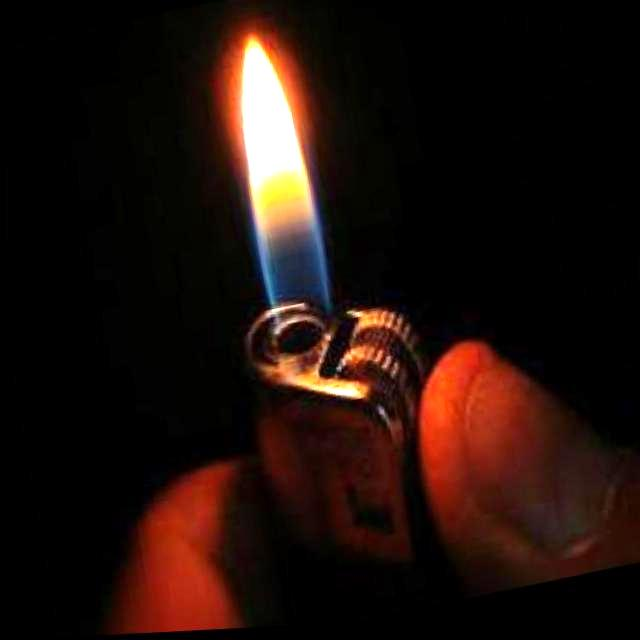fire: (226, 29, 334, 334)
